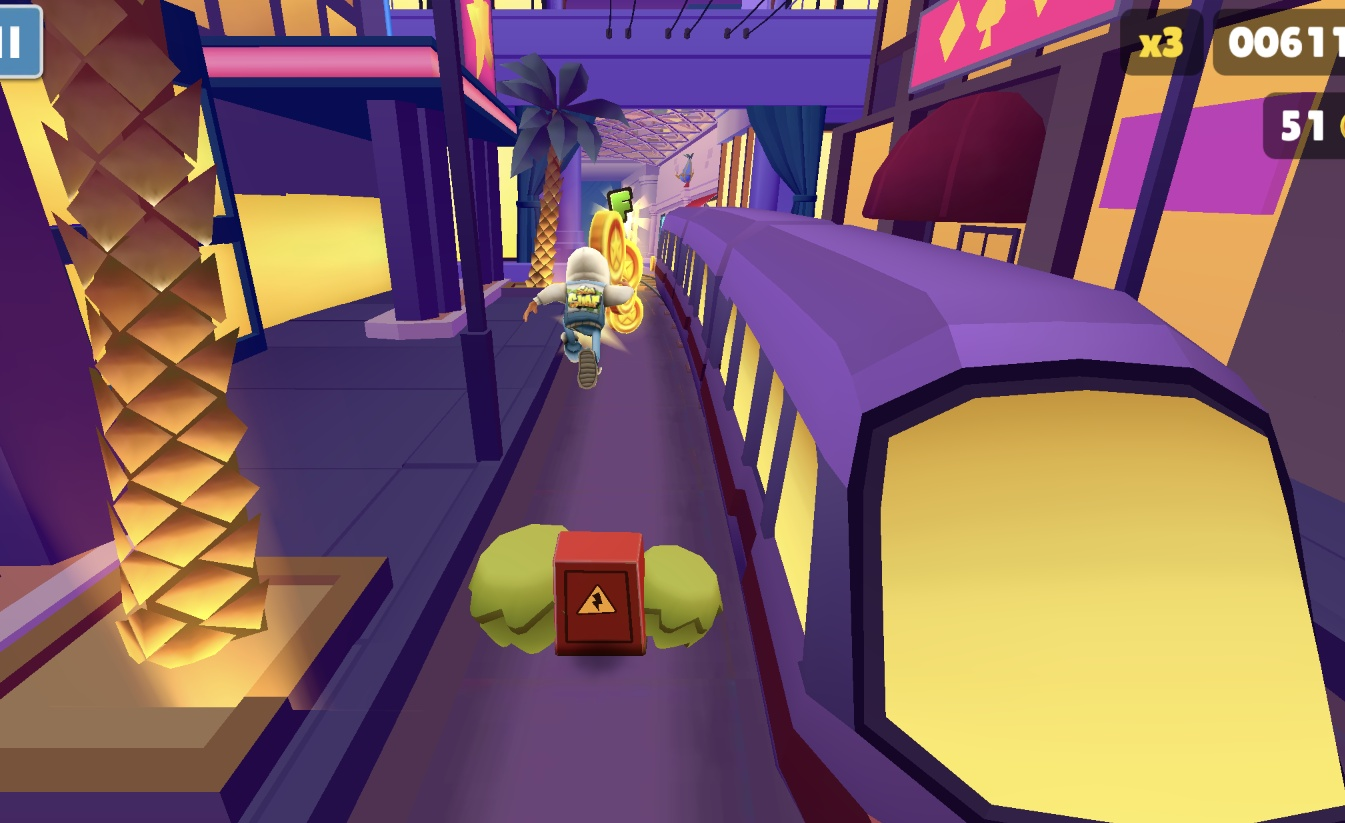bush: (463, 526, 552, 658), (648, 547, 728, 658)
small_obstacle: (552, 528, 648, 657)
train: (662, 205, 1345, 823)
